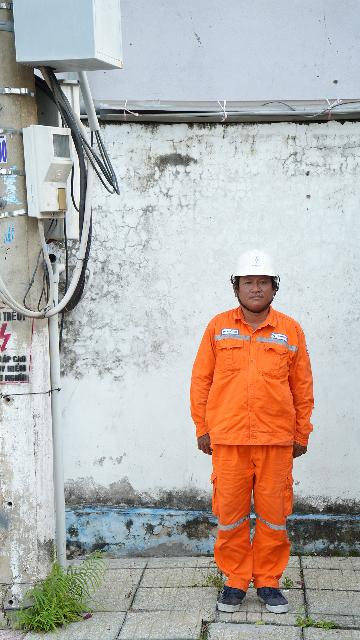helmet: (225, 241, 288, 287)
shoes: (256, 570, 293, 616), (212, 576, 250, 619)
